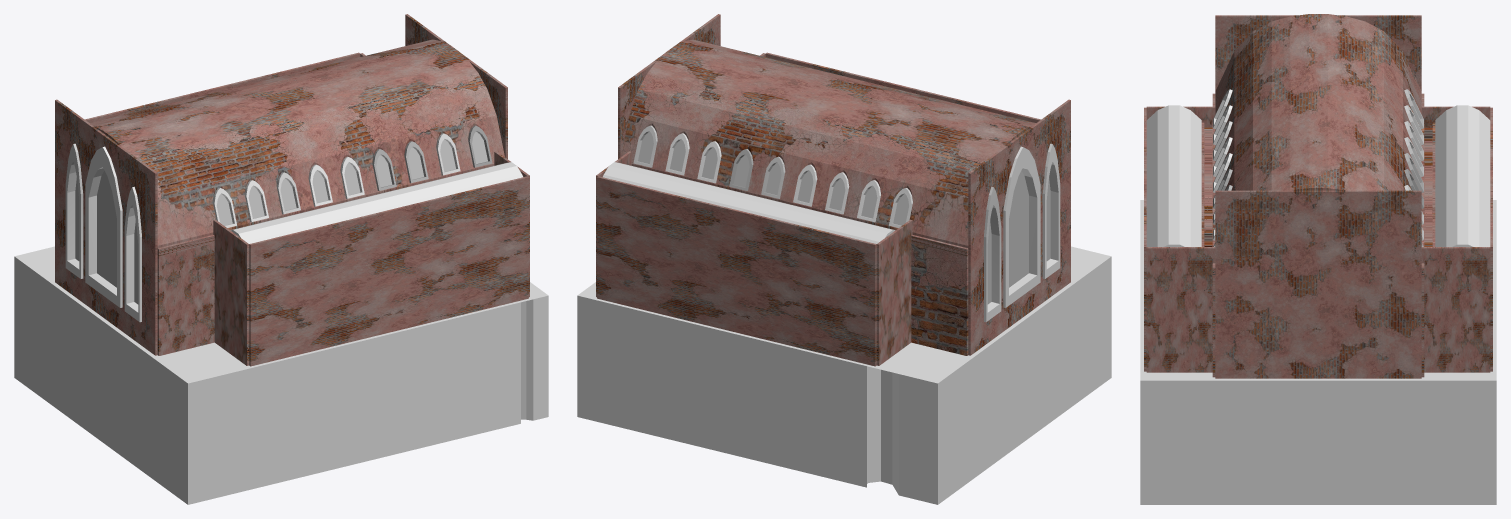
Rendered from Church.fbx.
3 views of the same model, side by side, from view 1: azimuth 30°, elevation 25°; view 2: azimuth 150°, elevation 25°; view 3: azimuth 270°, elevation 25° (orthographic). The views are drawn at different scales.
Parts seen in each view (by area): view 1: Cube.009, Floor.001, Plane.009, BackWall.001, Plane.001, Plane.013, Plane.003, Cube.021, WindowSmall2, Cube.035, Cube.038, WindowMiddle (+3 smaller); view 2: Cube.009, Floor.001, Plane.008, BackWall.001, Plane, Plane.012, Plane.002, Cube.031, WindowSmall1, Cube.035, Cube.037, WindowMiddle (+3 smaller); view 3: Cube.009, BackWall, Floor.001, Plane.005, Plane.007, Plane.012, Plane.013, BackWall.001, Cube.021, SideCeiling.004, SideCeiling.005, Cube.031 (+6 smaller).
Boxes of the visible parts, bbox=[...] form: Cube.009: bbox=[14, 246, 548, 504]; Floor.001: bbox=[90, 39, 504, 247]; Plane.009: bbox=[249, 176, 528, 366]; BackWall.001: bbox=[55, 99, 157, 355]; Plane.001: bbox=[157, 243, 214, 355]; Plane.013: bbox=[230, 162, 522, 243]; Plane.003: bbox=[213, 219, 249, 365]; Cube.021: bbox=[213, 125, 492, 227]; WindowSmall2: bbox=[216, 132, 487, 225]; Cube.035: bbox=[85, 146, 122, 307]; Cube.038: bbox=[65, 143, 83, 278]; WindowMiddle: bbox=[97, 170, 116, 287]; Cube.009: bbox=[577, 246, 1111, 504]; Floor.001: bbox=[621, 39, 1035, 247]; Plane.008: bbox=[597, 176, 876, 366]; BackWall.001: bbox=[968, 99, 1070, 355]; Plane: bbox=[911, 243, 968, 355]; Plane.012: bbox=[603, 162, 895, 243]; Plane.002: bbox=[876, 219, 912, 365]; Cube.031: bbox=[633, 125, 912, 227]; WindowSmall1: bbox=[638, 132, 908, 225]; Cube.035: bbox=[1003, 146, 1040, 307]; Cube.037: bbox=[1042, 143, 1060, 278]; WindowMiddle: bbox=[1009, 170, 1028, 287]; Cube.009: bbox=[1140, 200, 1496, 504]; BackWall: bbox=[1215, 190, 1421, 378]; Floor.001: bbox=[1215, 14, 1421, 190]; Plane.005: bbox=[1421, 247, 1490, 372]; Plane.007: bbox=[1146, 247, 1215, 372]; Plane.012: bbox=[1435, 105, 1490, 246]; Plane.013: bbox=[1146, 105, 1201, 246]; BackWall.001: bbox=[1215, 15, 1421, 92]; Cube.021: bbox=[1213, 89, 1232, 246]; SideCeiling.004: bbox=[1421, 93, 1435, 275]; SideCeiling.005: bbox=[1201, 93, 1215, 275]; Cube.031: bbox=[1404, 89, 1423, 246].
Bounding box in the file's own units: 15540 × 12600 × 12970.
9 materials, 7 textured.
